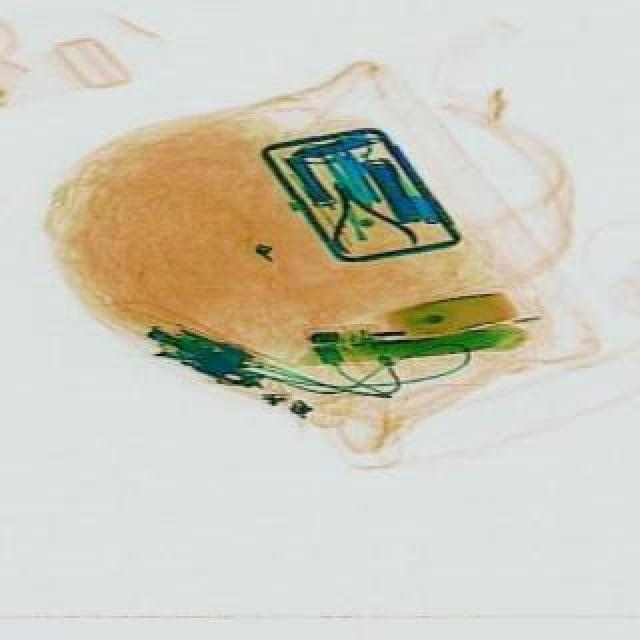wrench: (312, 164, 426, 276)
